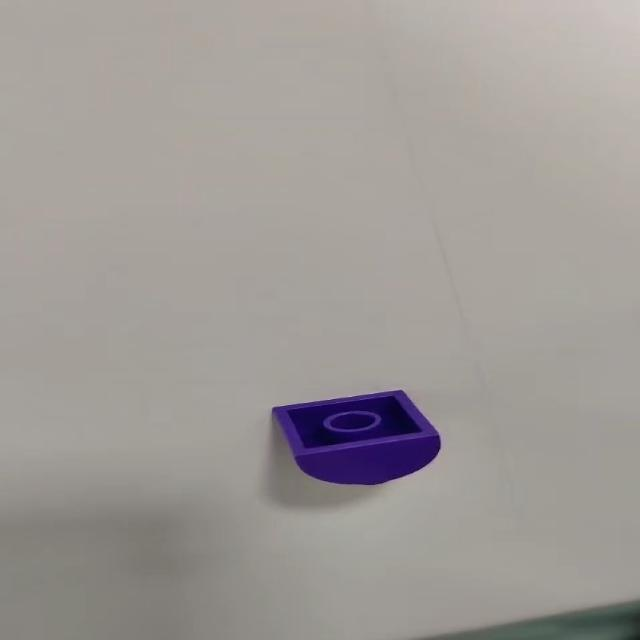H2x2x1: (265, 387, 442, 487)
